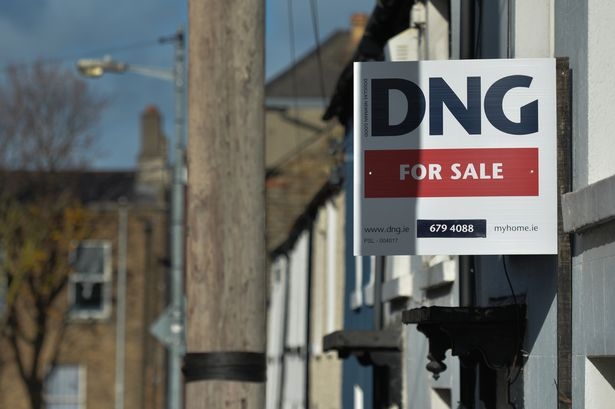property sign: (341, 44, 583, 271)
